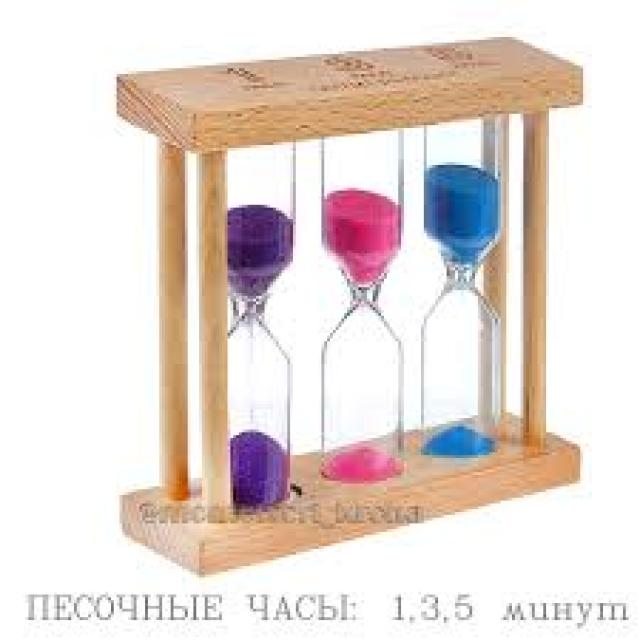clock: (112, 39, 604, 564)
